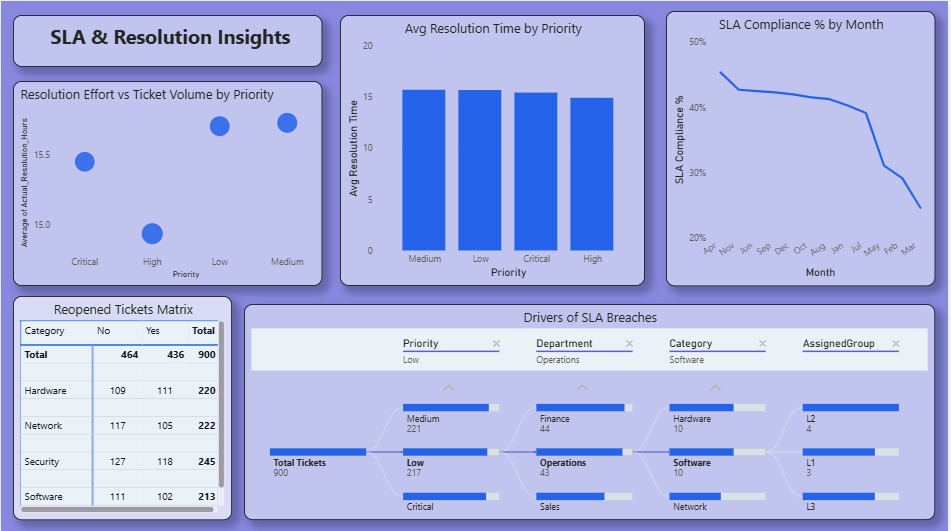

Layout of this report page (visuals, bound fields, positions):
{"tool":"powerbi","page":{"name":"Page 2","canvas":[1280,720],"ordinal":1},"visuals":[{"type":"clusteredColumnChart","fields":{"Category":["itsm_tickets_900.Priority"],"Y":["itsm_tickets_900.Avg Resolution Time"]},"box":[458.1,18.9,412.2,366.2],"z":0},{"type":"decompositionTreeVisual","title":"Drivers of SLA Breaches","fields":{"Analyze":["itsm_tickets_900.Total Tickets"],"ExplainBy":["itsm_tickets_900.Priority","itsm_tickets_900.Department","itsm_tickets_900.Category","itsm_tickets_900.AssignedGroup"]},"box":[328.4,409.5,933.8,291.9],"z":2},{"type":"lineChart","fields":{"Category":["DateTable.Month"],"Y":["itsm_tickets_900.SLA Compliance %"]},"box":[898.6,13.5,363.5,371.6],"z":3},{"type":"scatterChart","title":"Resolution Effort vs Ticket Volume by Priority","fields":{"Size":["itsm_tickets_900.Total Tickets"],"Y":["Avg(itsm_tickets_900.Actual_Resolution_Hours)"],"X":["itsm_tickets_900.Priority"]},"box":[16.2,108.1,417.6,277],"z":4},{"type":"pivotTable","title":"Reopened Tickets Matrix","fields":{"Rows":["itsm_tickets_900.Category"],"Values":["itsm_tickets_900.Total Tickets"],"Columns":["itsm_tickets_900.Reopened"]},"box":[16.2,398.6,295.9,302.7],"z":5},{"type":"textbox","box":[16.2,18.9,417.6,70.3],"z":6},{"type":"actionButton","box":[0,0,100,40],"z":7},{"type":"actionButton","box":[1179.7,13.5,100,40.5],"z":8}]}

Visuals, with their boxes in screenshot pixels (x1, y1, x2, y2), scaled from the page's 1280x720 canvas onto the 951x531 screenshot:
clusteredColumnChart - itsm_tickets_900.Priority x itsm_tickets_900.Avg Resolution Time: detection(340, 14, 647, 284)
"Drivers of SLA Breaches" decompositionTreeVisual: detection(244, 302, 938, 517)
lineChart - DateTable.Month x itsm_tickets_900.SLA Compliance %: detection(668, 10, 938, 284)
"Resolution Effort vs Ticket Volume by Priority" scatterChart: detection(12, 80, 322, 284)
"Reopened Tickets Matrix" pivotTable: detection(12, 294, 232, 517)
textbox: detection(12, 14, 322, 66)
actionButton: detection(0, 0, 74, 30)
actionButton: detection(876, 10, 950, 40)
